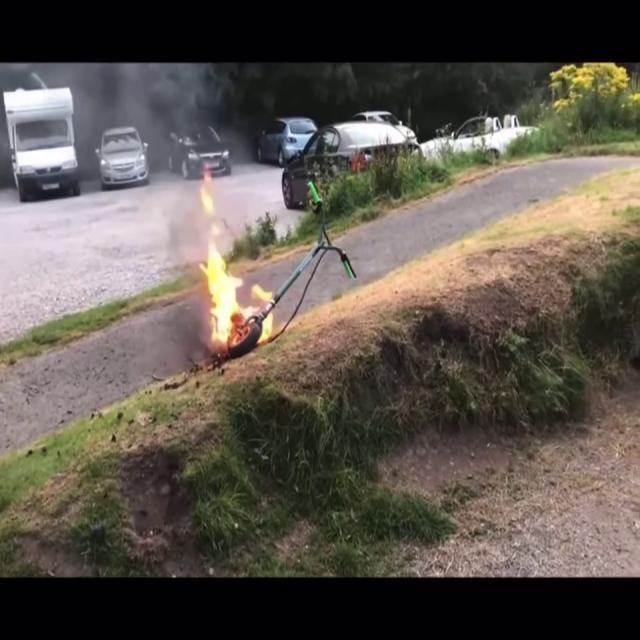Fire: (186, 186, 254, 350)
Smoke: (65, 60, 264, 190)
